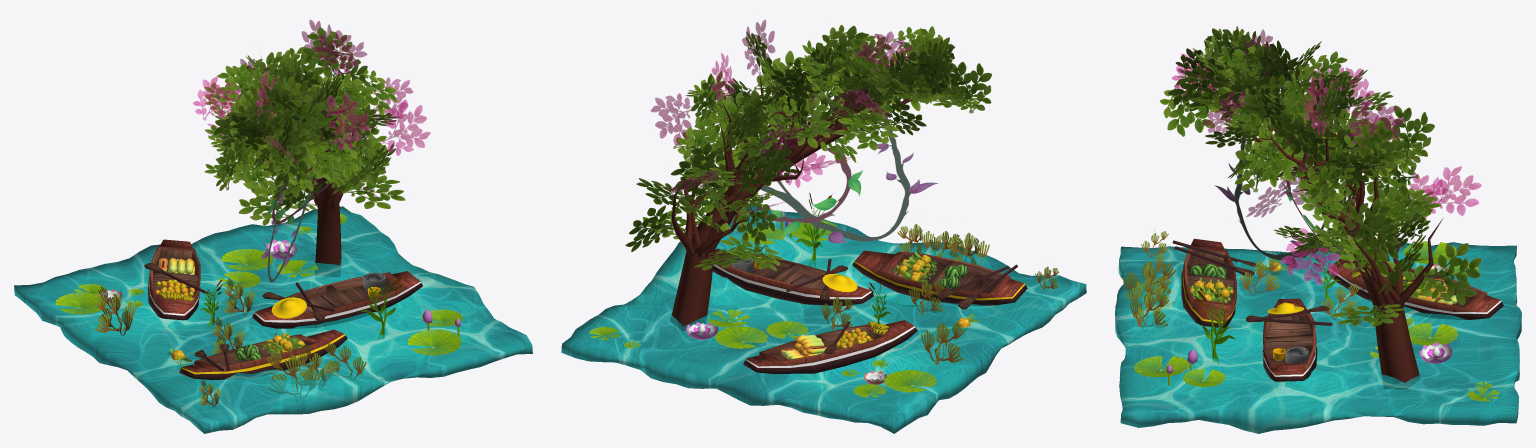
Rendered from a_floating_market.glb.
The picture shows the model from 3 angles, left to right: view 1: azimuth 30°, elevation 25°; view 2: azimuth 150°, elevation 25°; view 3: azimuth 270°, elevation 25°; orthographic projection. The views are drawn at different scales.
Parts seen in each view (by area): view 1: Plane, leaves, Plane.002, Plane.001, Plane.003, Circle, Plane.019, Plane.015, Circle.004, Circle.006, Plane.024, Plane.020 (+6 smaller); view 2: leaves, Plane, Plane.001, Plane.003, Plane.002, Plane.024, Plane.025, Plane.015, Circle.004, Circle.006, Plane.019, Plane.018 (+4 smaller); view 3: leaves, Plane, Plane.002, Plane.001, Plane.003, Plane.024, Plane.019, Plane.021, Circle.004, Plane.022, Circle, Plane.018 (+4 smaller).
Boxes of the visible parts, x1=… form: Plane: x1=14, y1=206, x2=532, y2=433; leaves: x1=193, y1=19, x2=430, y2=276; Plane.002: x1=252, y1=271, x2=422, y2=328; Plane.001: x1=179, y1=329, x2=347, y2=379; Plane.003: x1=148, y1=239, x2=200, y2=320; Circle: x1=407, y1=329, x2=461, y2=355; Plane.019: x1=266, y1=344, x2=320, y2=401; Plane.015: x1=95, y1=287, x2=136, y2=335; Circle.004: x1=221, y1=249, x2=273, y2=270; Circle.006: x1=55, y1=292, x2=106, y2=314; Plane.024: x1=260, y1=177, x2=316, y2=282; Plane.020: x1=296, y1=345, x2=336, y2=389; leaves: x1=625, y1=19, x2=991, y2=330; Plane: x1=561, y1=205, x2=1086, y2=433; Plane.001: x1=852, y1=250, x2=1027, y2=305; Plane.003: x1=743, y1=320, x2=917, y2=373; Plane.002: x1=712, y1=248, x2=873, y2=305; Plane.024: x1=760, y1=116, x2=938, y2=243; Plane.025: x1=754, y1=145, x2=862, y2=238; Plane.015: x1=921, y1=322, x2=964, y2=364; Circle.004: x1=715, y1=326, x2=767, y2=348; Circle.006: x1=884, y1=370, x2=936, y2=392; Plane.019: x1=947, y1=232, x2=989, y2=265; Plane.018: x1=909, y1=280, x2=944, y2=314; leaves: x1=1160, y1=26, x2=1481, y2=389; Plane: x1=1115, y1=242, x2=1521, y2=433; Plane.002: x1=1263, y1=298, x2=1317, y2=381; Plane.001: x1=1181, y1=238, x2=1236, y2=328; Plane.003: x1=1326, y1=258, x2=1503, y2=319; Plane.024: x1=1214, y1=134, x2=1335, y2=268; Plane.019: x1=1122, y1=252, x2=1175, y2=308; Plane.021: x1=1129, y1=285, x2=1169, y2=331; Circle.004: x1=1408, y1=323, x2=1458, y2=345; Plane.022: x1=1194, y1=289, x2=1235, y2=364; Circle: x1=1133, y1=355, x2=1189, y2=376; Plane.018: x1=1240, y1=255, x2=1280, y2=295.
Bounding box in the file's own units: 10.48 × 9.03 × 10.45.
29 materials, 16 textured.
